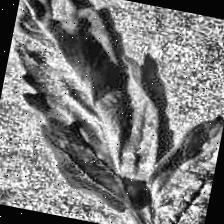leaf mold: (139, 105, 224, 224)
